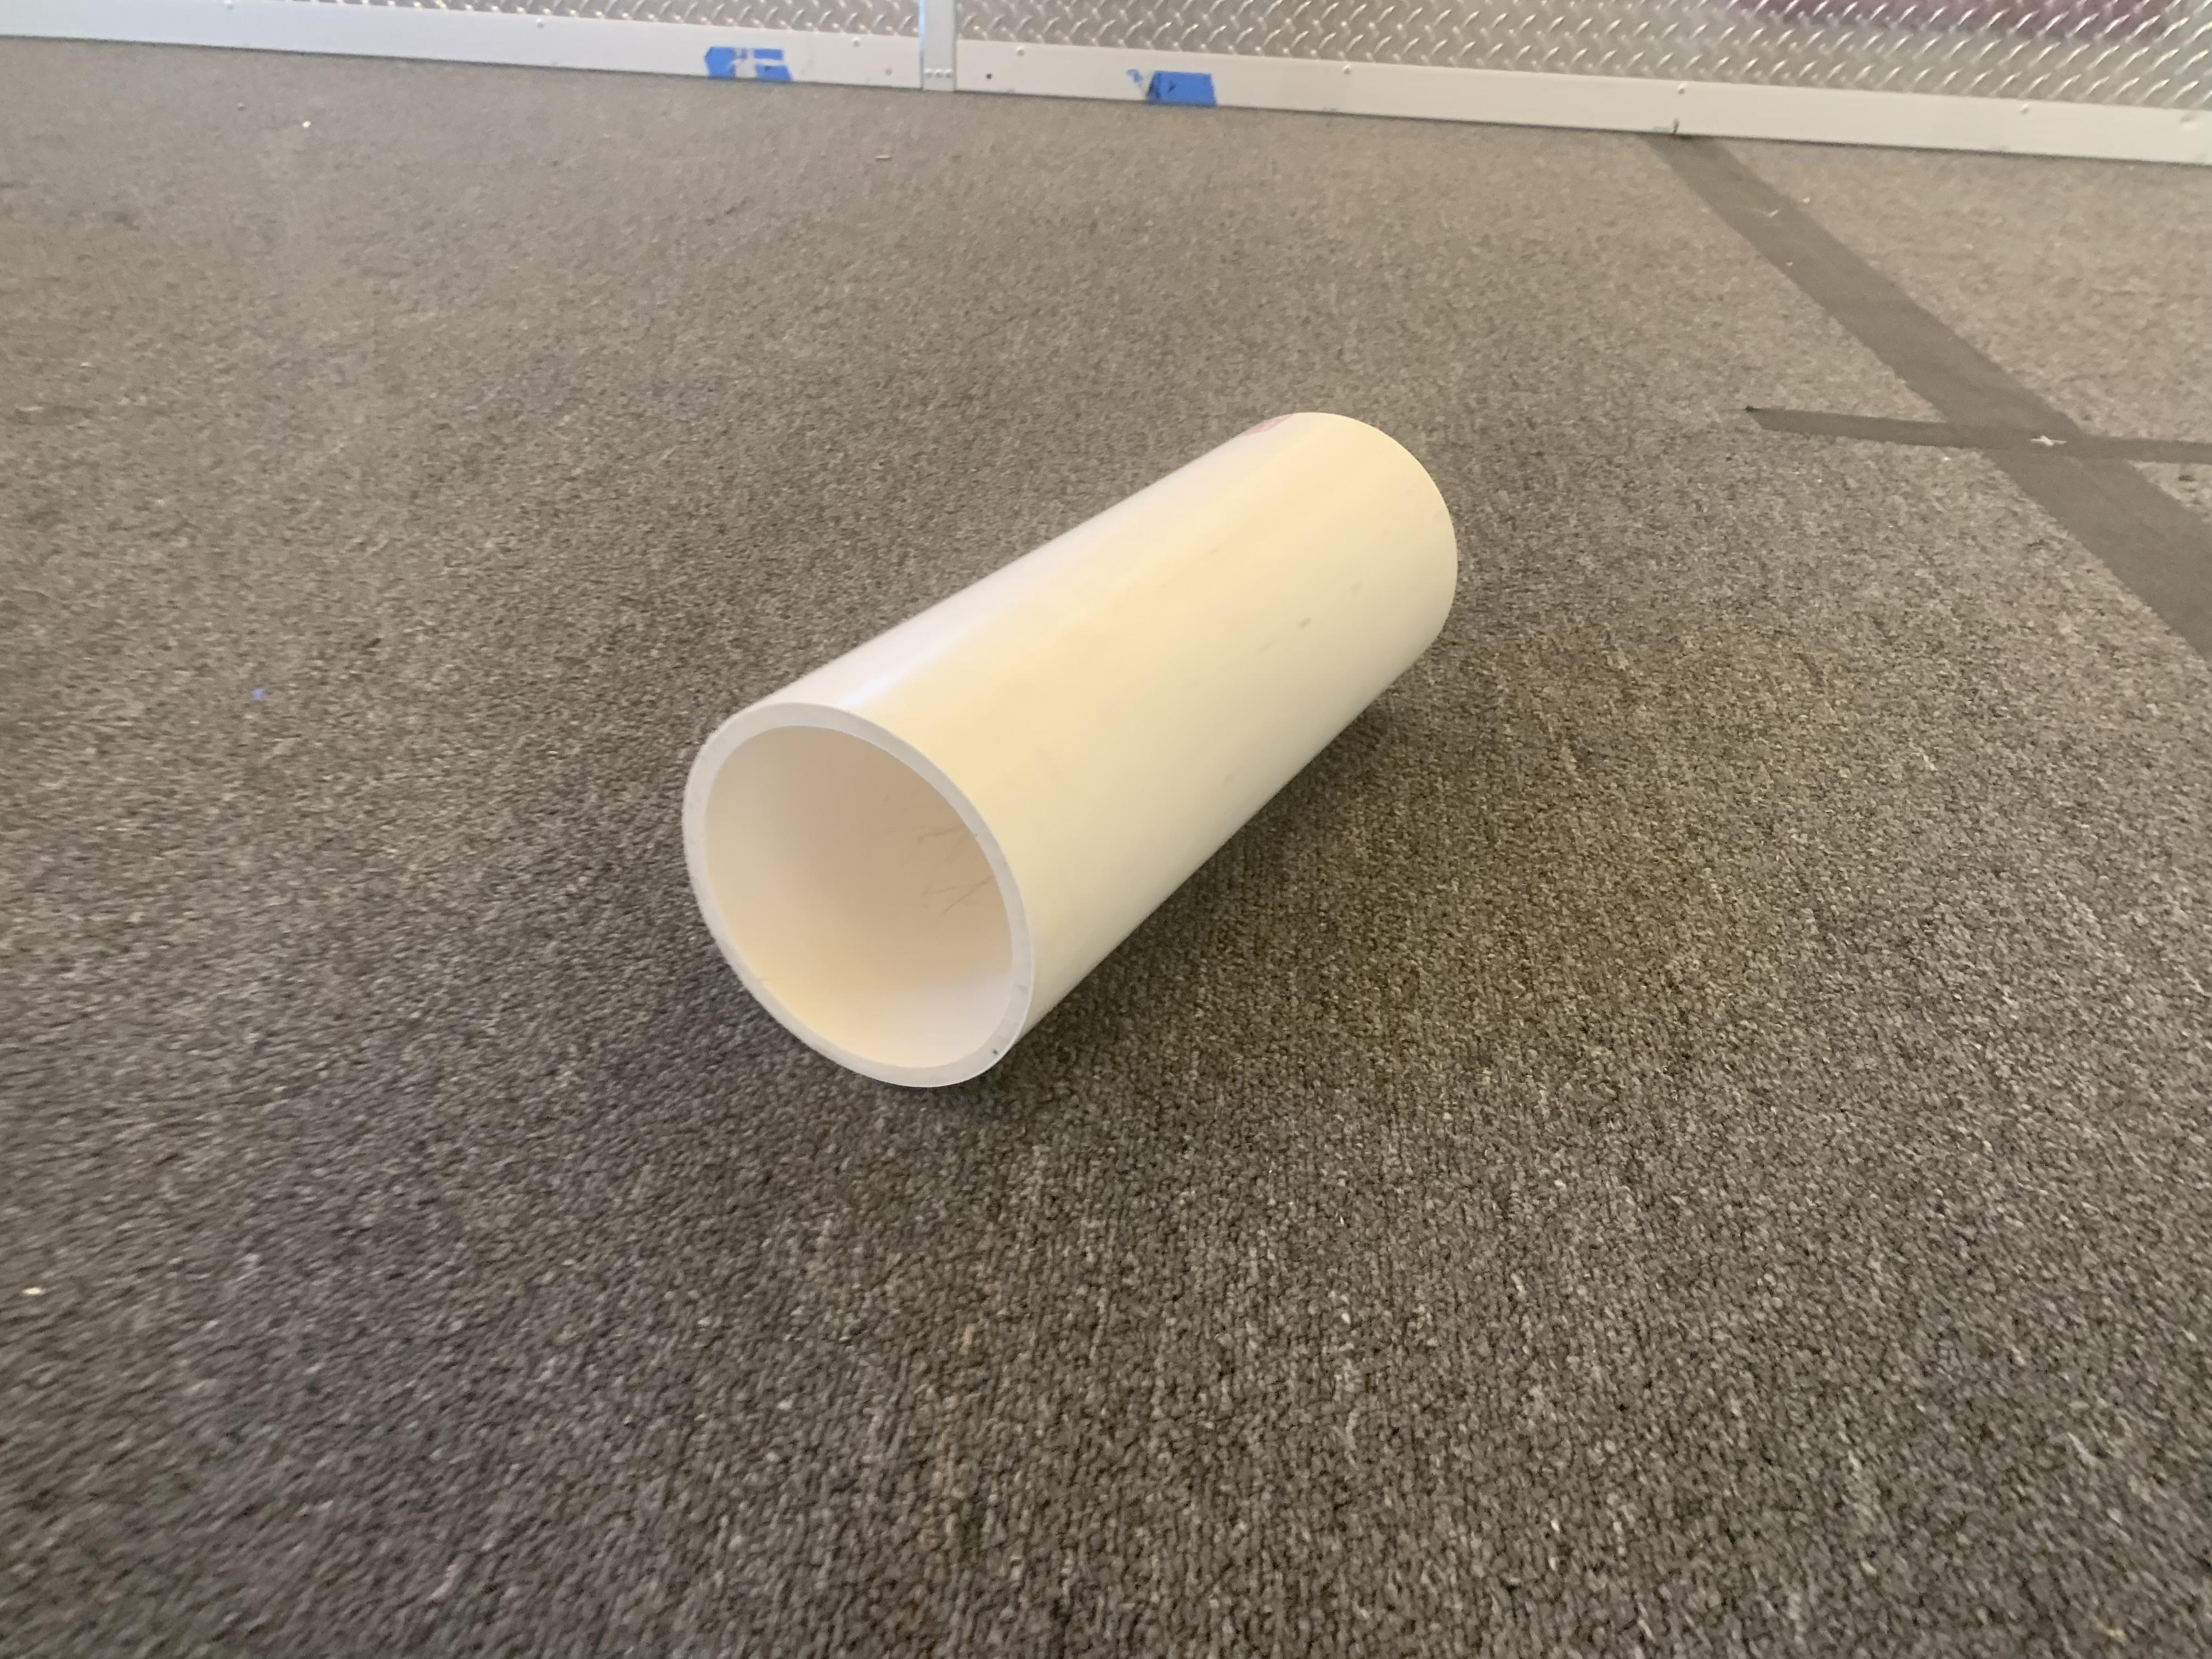coral: (676, 404, 1461, 1093)
